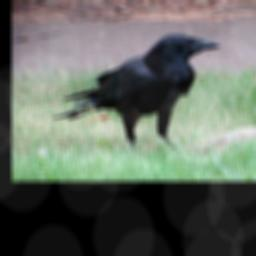Crow: (52, 33, 223, 153)
